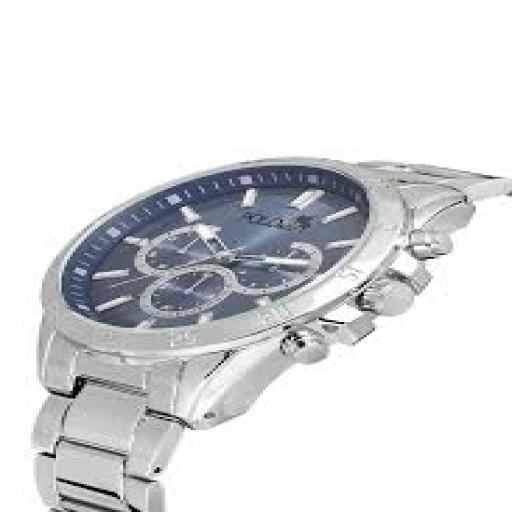KolSaati: (3, 136, 512, 512)
